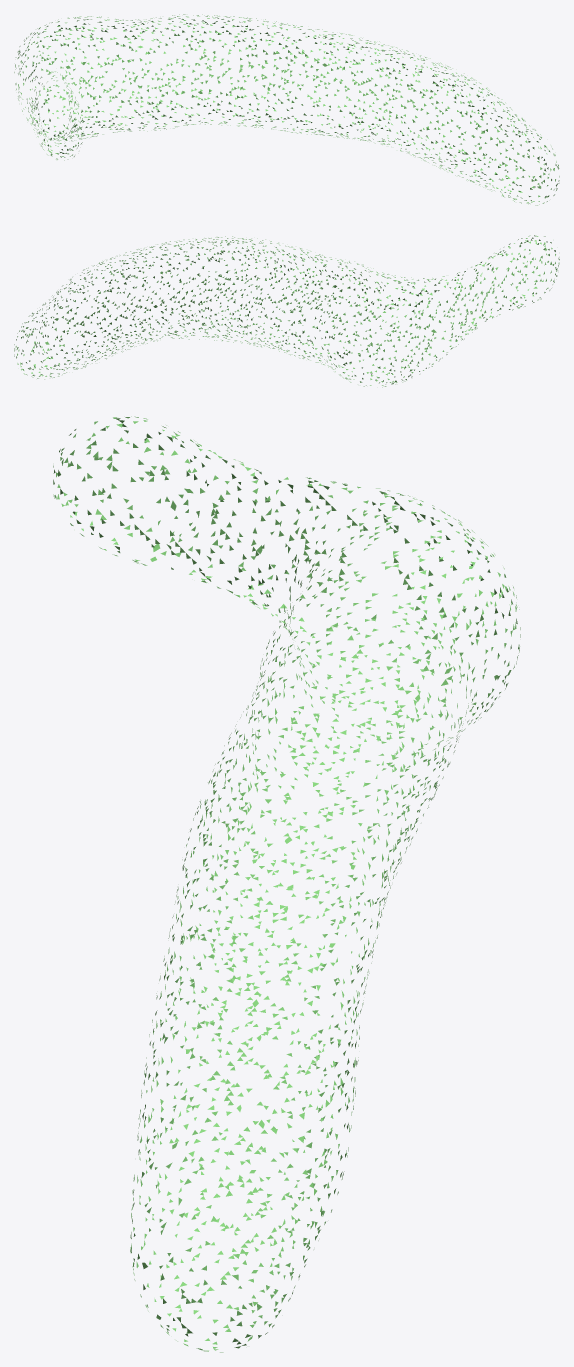
Rendered from morph_016.glb.
The picture shows the model from 3 angles, top to bottom: view 1: azimuth 30°, elevation 25°; view 2: azimuth 150°, elevation 25°; view 3: azimuth 270°, elevation 25°; orthographic projection. The views are drawn at different scales.
Bounding box in the file's own units: 131 × 58.75 × 52.76.
